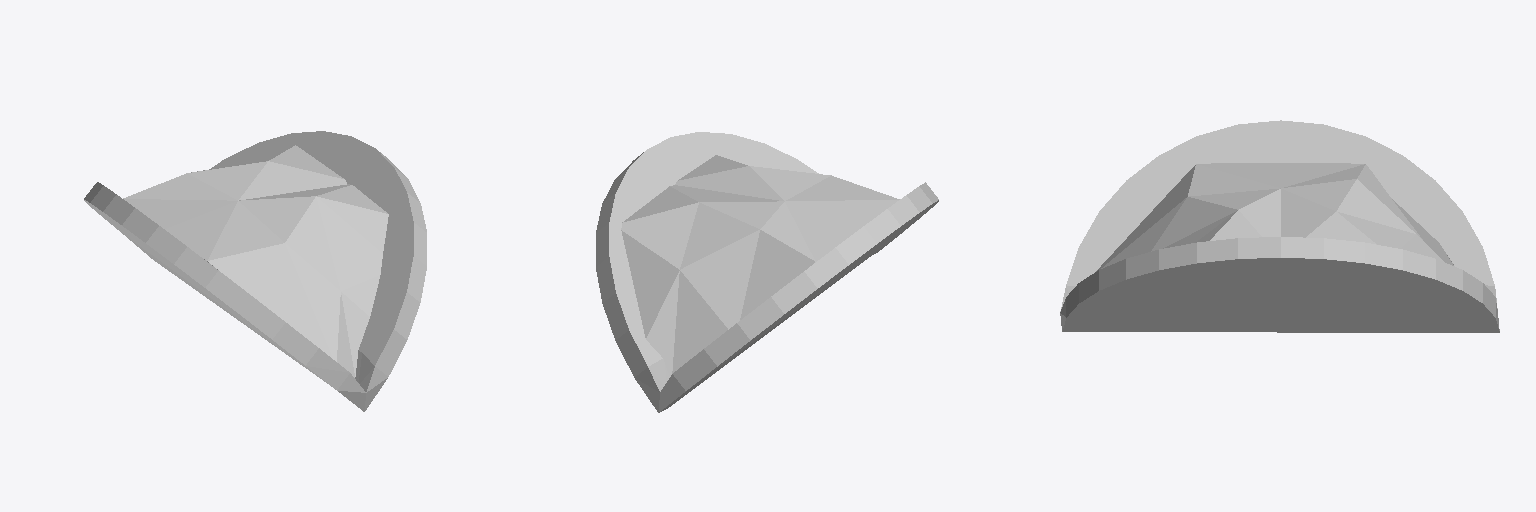
File: taco.obj
The picture shows the model from 3 angles: view 1: azimuth 30°, elevation 25°; view 2: azimuth 150°, elevation 25°; view 3: azimuth 270°, elevation 25°; orthographic projection.
Parts seen in each view (by area): view 1: Plane_Mesh; view 2: Plane_Mesh; view 3: Plane_Mesh.
Boxes of the visible parts, box(x1,y1,x2,y2) form: Plane_Mesh: box(84, 131, 426, 411); Plane_Mesh: box(596, 132, 938, 412); Plane_Mesh: box(1060, 120, 1499, 332).
Bounding box in the file's own units: 0.1202 × 0.0669 × 0.1712.